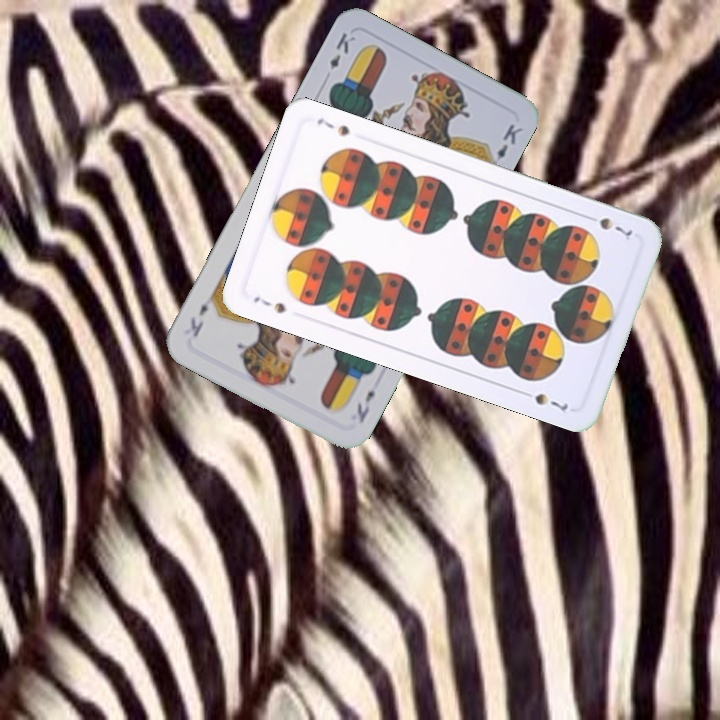EK: (326, 28, 358, 72), (352, 386, 378, 426)
S7: (581, 211, 635, 239), (249, 292, 289, 316)
